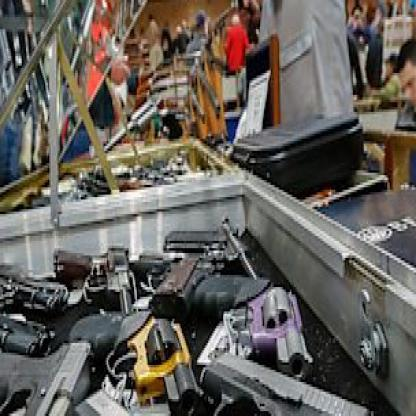gun: (190, 268, 318, 392), (68, 307, 202, 414), (198, 343, 376, 414), (0, 343, 99, 414), (0, 260, 77, 326)
